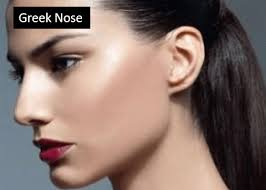n.sharp: (14, 57, 56, 123)
